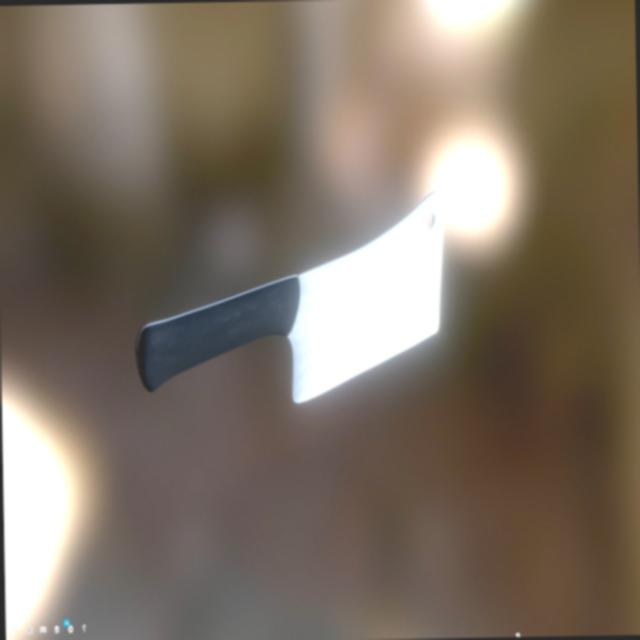cleaver: (132, 189, 448, 400)
